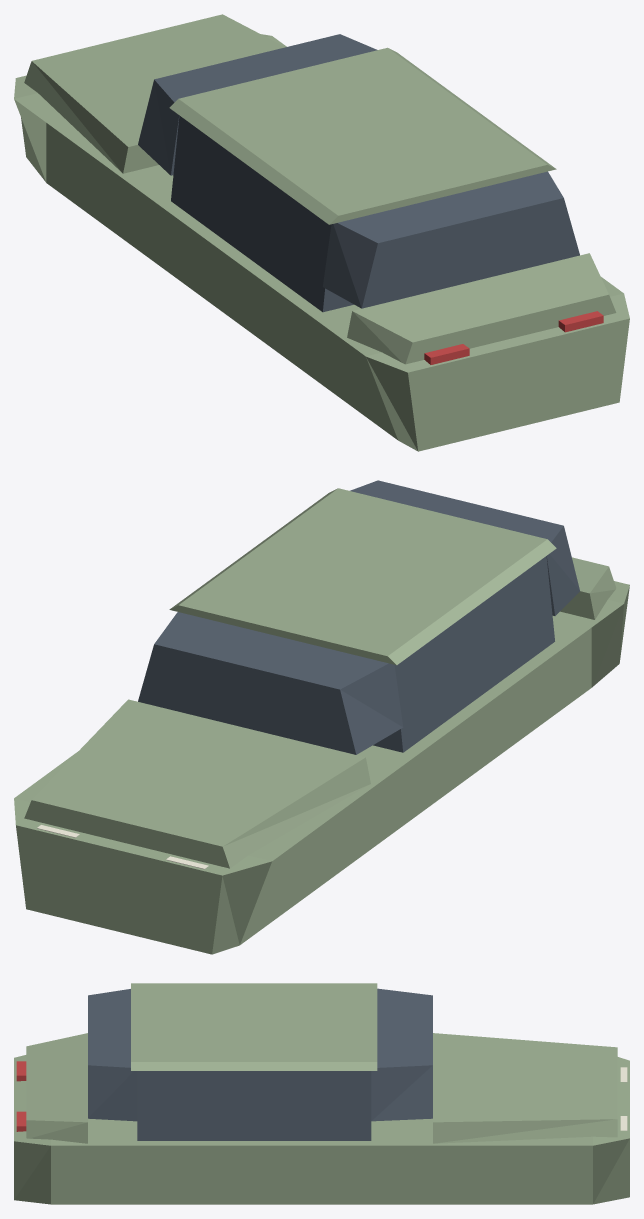
File: suv_awd.glb
3 renders of one model, top to bottom at view 1: azimuth 30°, elevation 25°; view 2: azimuth 150°, elevation 25°; view 3: azimuth 270°, elevation 25°, orthographic. The views are drawn at different scales.
Parts seen in each view (by area): view 1: SUV AWD; view 2: SUV AWD; view 3: SUV AWD.
Part boxes in pixels (x1,y1,x2,y2): SUV AWD: [14, 14, 629, 451]; SUV AWD: [14, 480, 629, 954]; SUV AWD: [14, 983, 629, 1204].
Size of the model in its own units: 1.79 by 1.25 by 4.8.
